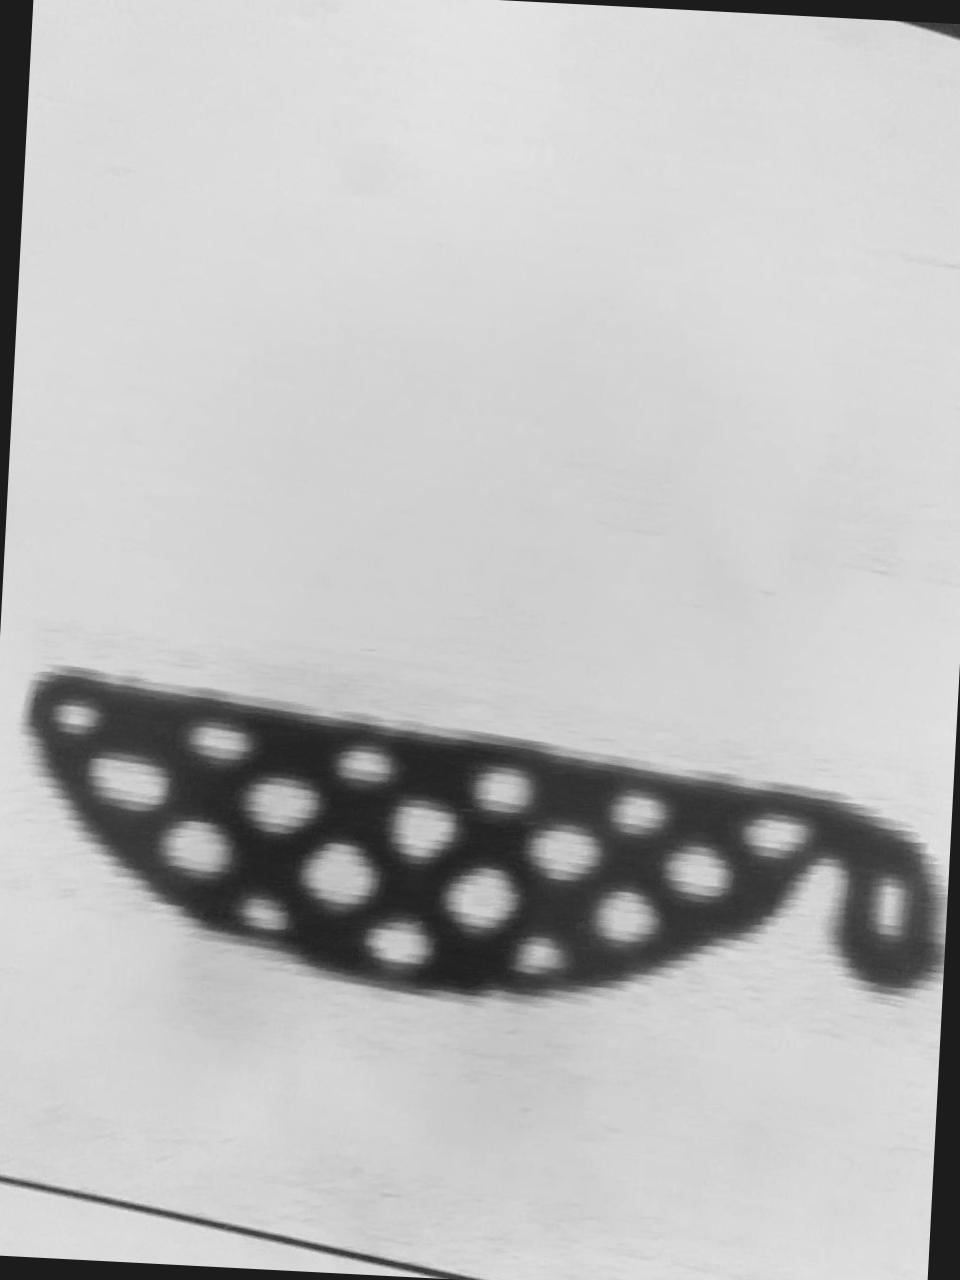Basket: (24, 648, 938, 1028)
